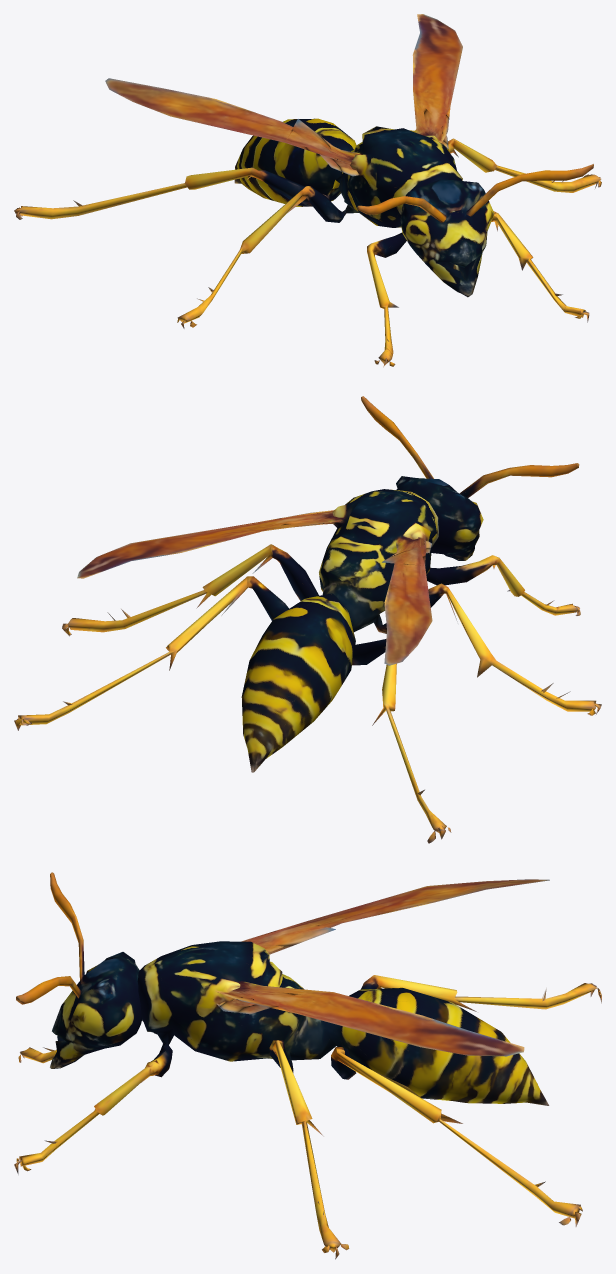
Rendered from Insect.glb.
3 renders of one model, top to bottom at view 1: azimuth 30°, elevation 25°; view 2: azimuth 150°, elevation 25°; view 3: azimuth 270°, elevation 25°, orthographic. The views are drawn at different scales.
Parts seen in each view (by area): view 1: geometry_0; view 2: geometry_0; view 3: geometry_0.
Part boxes in pixels (box(x1,y1,x2,y2)): geometry_0: box(14, 14, 601, 367); geometry_0: box(14, 396, 601, 843); geometry_0: box(14, 872, 601, 1259).
Bounding box in the file's own units: 0.958 × 0.312 × 0.8916.
Materials: 1 (1 with a texture image).
